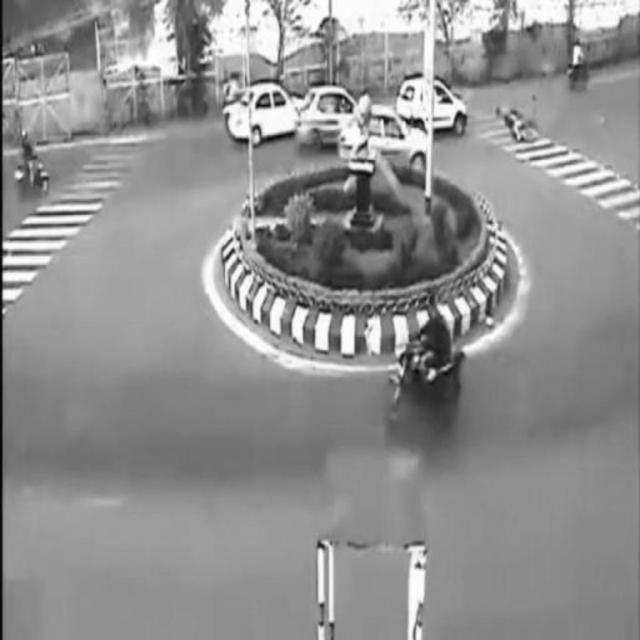vehicle: (388, 298, 466, 416), (346, 104, 432, 175), (394, 77, 472, 135), (292, 84, 369, 142), (223, 85, 299, 143), (492, 105, 542, 145)
